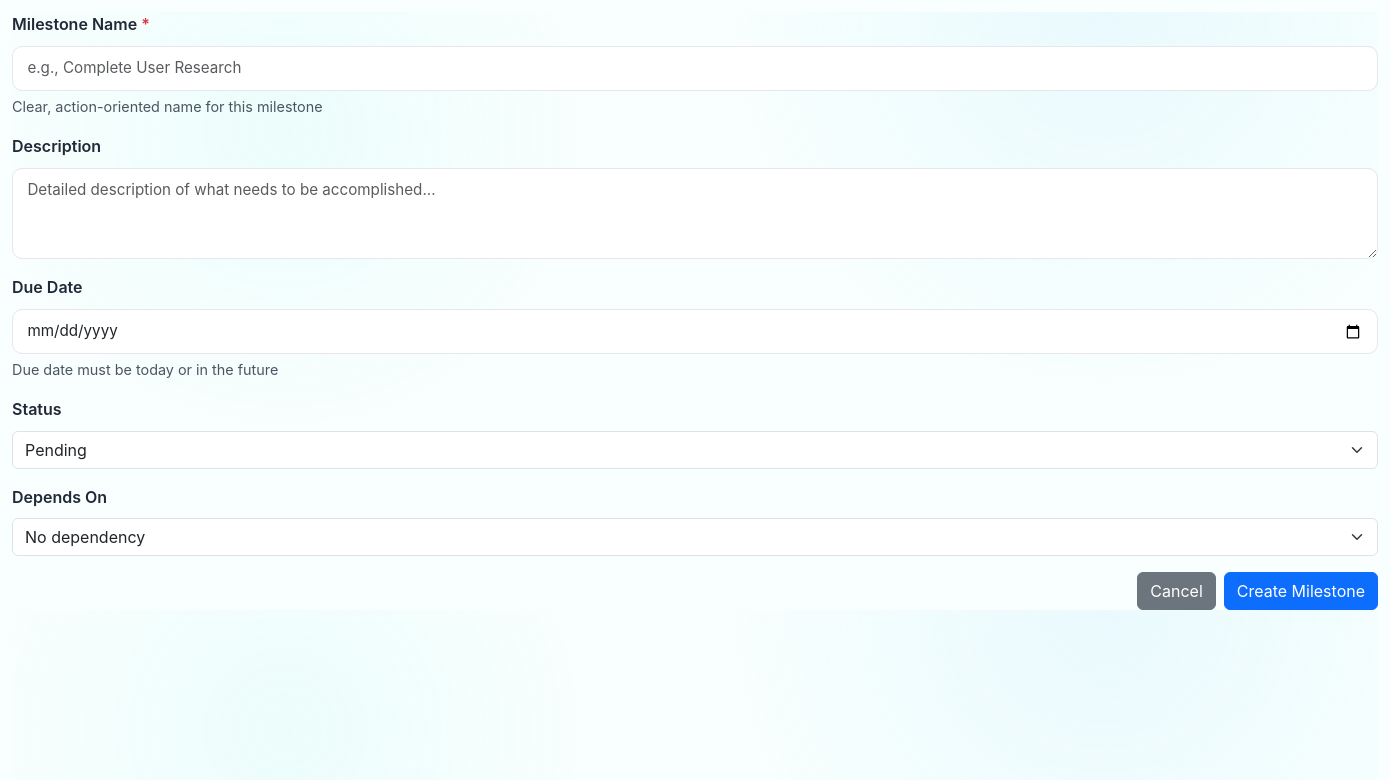
it: MilestoneForm › shows backend error message
In the field labelled "Milestone Name *": (695, 68) x1=12 y1=46 x2=1378 y2=91, type "MS3"
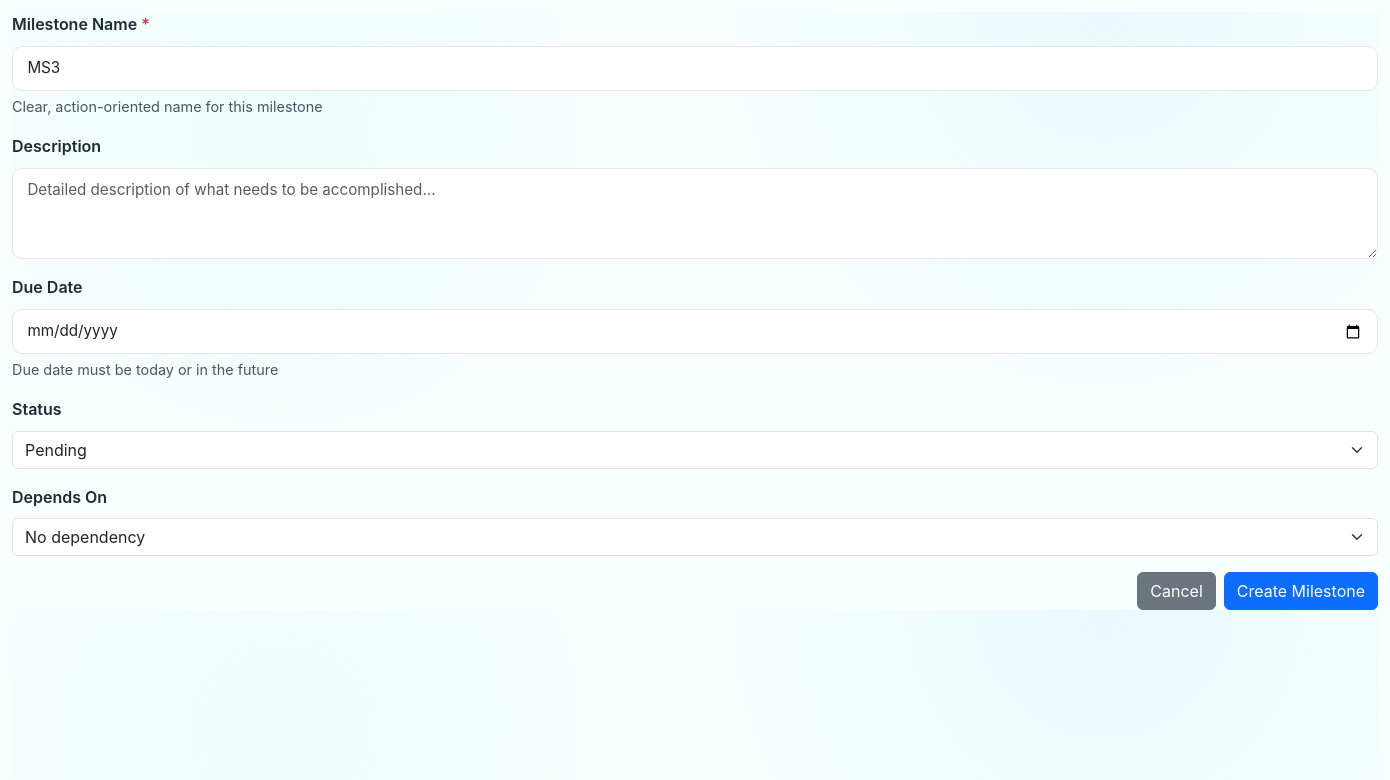
Click the button "Create Milestone": (1301, 591) x1=1224 y1=572 x2=1378 y2=610
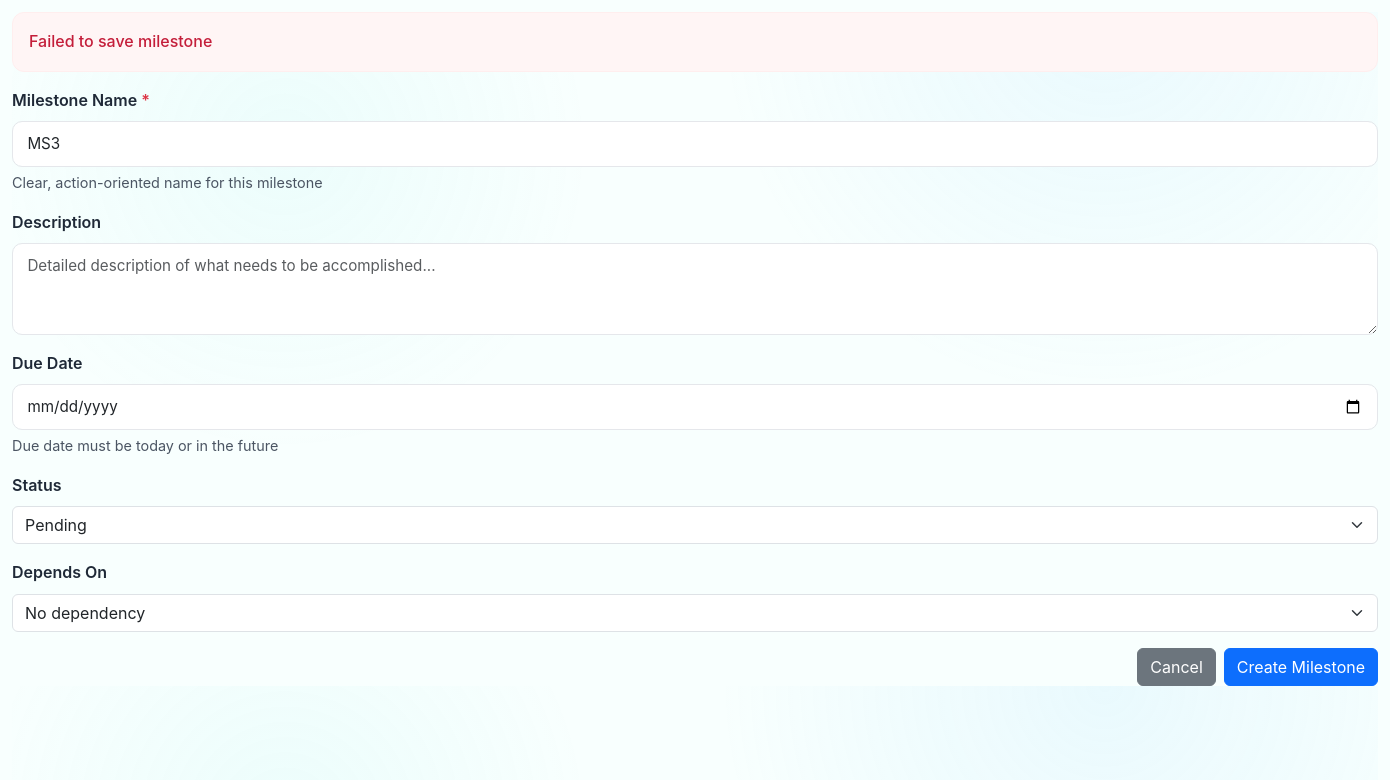
Check: the text "Failed to save milestone" is shown, box x1=12 y1=12 x2=1378 y2=72
